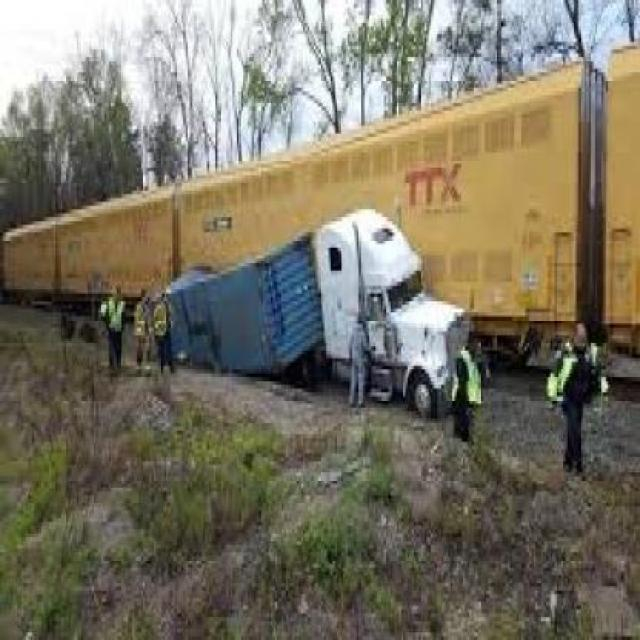accident: (142, 170, 520, 427)
